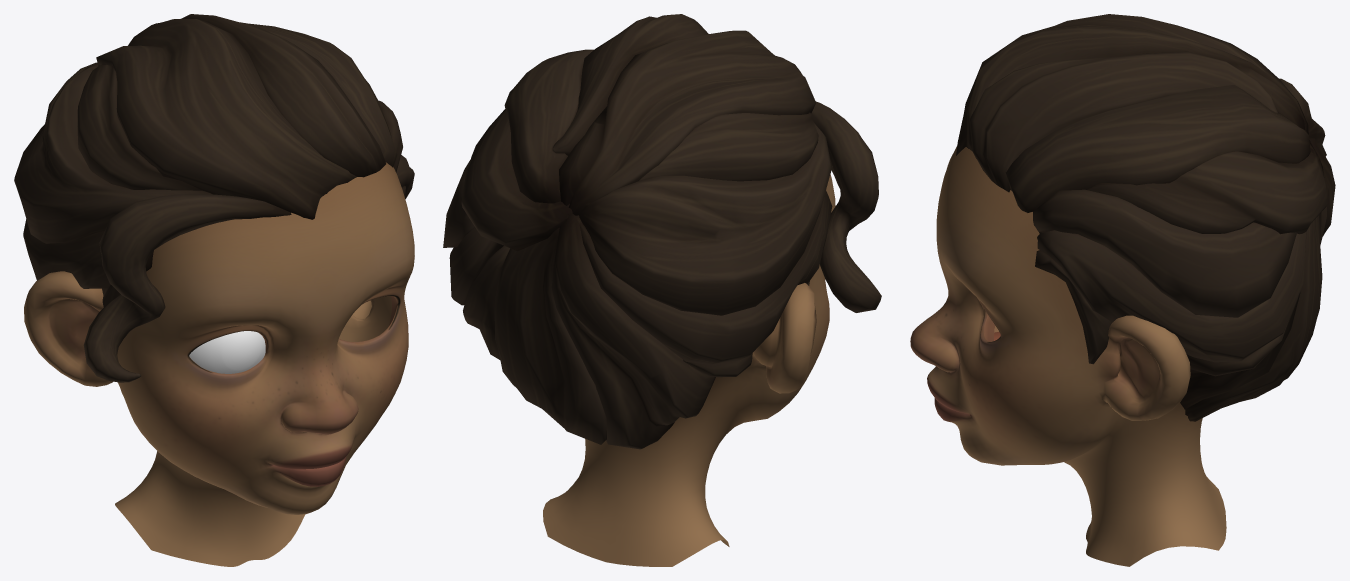
Rendered from rain.glb.
3 renders of one model, left to right at view 1: azimuth 30°, elevation 25°; view 2: azimuth 150°, elevation 25°; view 3: azimuth 270°, elevation 25°, orthographic. The views are drawn at different scales.
Parts seen in each view (by area): view 1: GEO-rain-head, GEO-rain-hair_main, GEO-rain-hair_strand, GEO-rain-eye_cornea; view 2: GEO-rain-hair_main, GEO-rain-head, GEO-rain-hair_strand; view 3: GEO-rain-hair_main, GEO-rain-head.
Part boxes in pixels (x1,y1,x2,y2): GEO-rain-head: [24, 162, 414, 566]; GEO-rain-hair_main: [14, 14, 414, 307]; GEO-rain-hair_strand: [83, 194, 291, 382]; GEO-rain-eye_cornea: [189, 331, 265, 373]; GEO-rain-hair_main: [443, 14, 832, 449]; GEO-rain-head: [543, 174, 835, 566]; GEO-rain-hair_strand: [811, 101, 881, 312]; GEO-rain-hair_main: [956, 14, 1335, 421]; GEO-rain-head: [910, 146, 1226, 566].
Size of the model in its own units: 0.2763 by 0.37 by 0.2805.
Materials: 3 (2 with a texture image).
